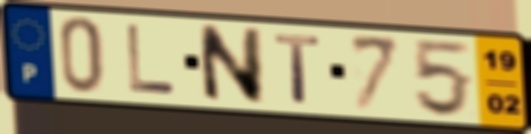0: (56, 15, 111, 97)
5: (409, 36, 474, 119)
7: (349, 32, 401, 115)
L: (124, 22, 179, 98)
N: (195, 23, 267, 107)
T: (271, 32, 325, 107)
